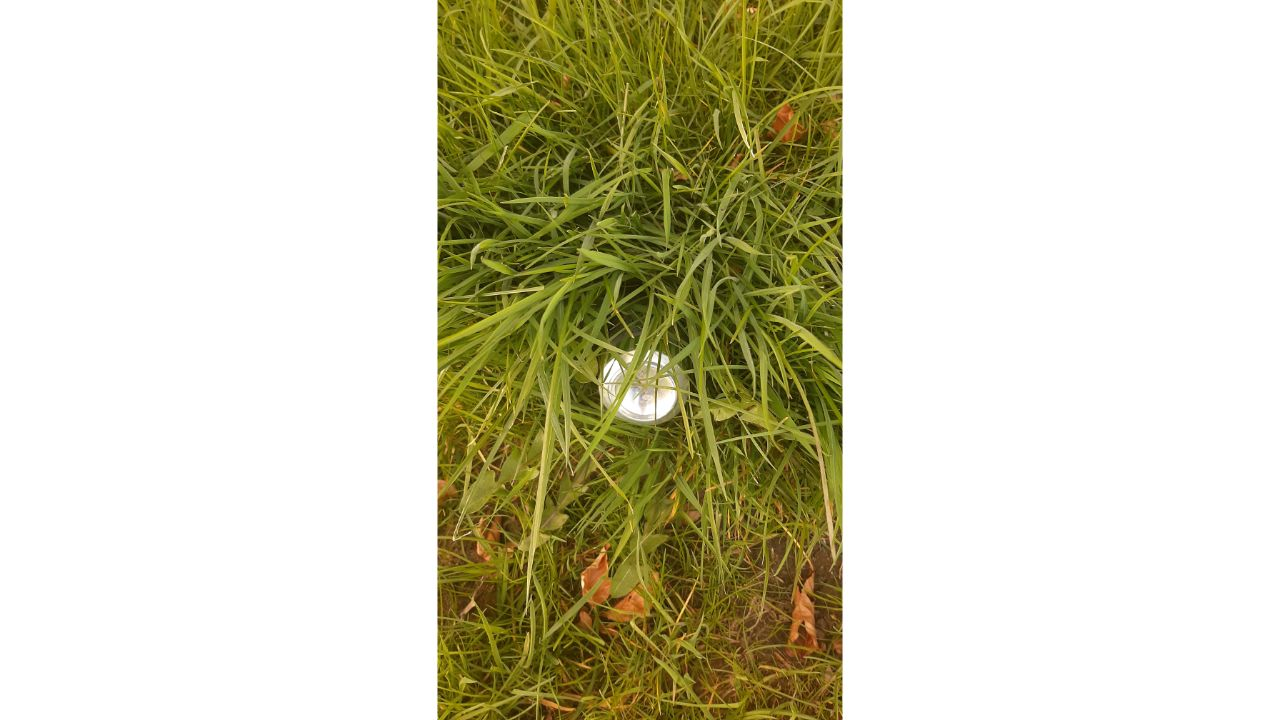Can: (584, 318, 709, 437)
